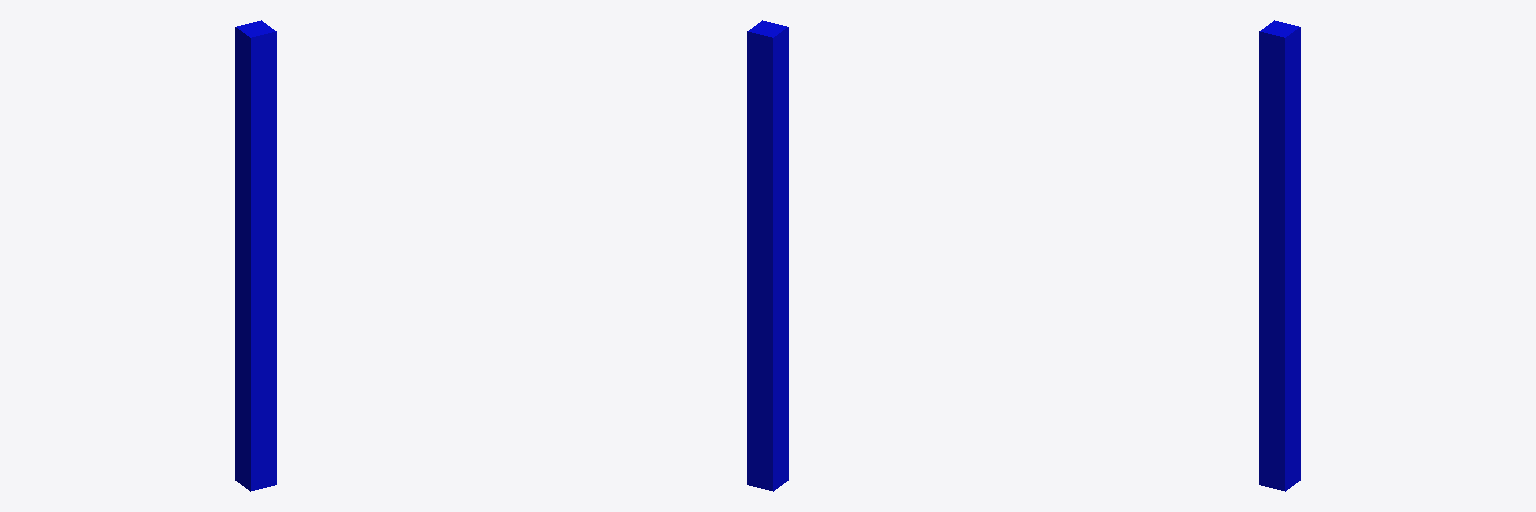
robot.urdf — petri:
<?xml version="1.0" ?>
<robot name="petri">
  <link name="petri">
    <contact>
      <friction_anchor/>
      <!--<stiffness value="30000.0"/>
      <damping value="1000.0"/> 
      <inertia_scaling value="3.0"/>-->
      <lateral_friction value="1.0"/>
      <spinning_friction value="1.0"/> <!-- 0.0001 -->
      <rolling_friction value="1.3"/> <!-- 0.0001 -->
      <contact_cfm value="0.0"/>
      <contact_erp value="1.0"/>
    </contact>
    <inertial>
      <origin rpy="0 0 0" xyz="0.03 0.03 0.5"/>
      <mass value="10"/>
      <inertia ixx="0.5" ixy="0" ixz="0" iyy="0.5" iyz="0" izz="0.5"/>
    </inertial>
    <visual>
      <!-- <origin rpy="0 0 0" xyz="0 0 0"/> -->
      <origin rpy="0.0 0.0 0." xyz="0.03 0.03 0.5"/>
      <geometry>
        <!--<mesh filename="package://meshes/petri.stl"/>-->
        <box size="0.06 0.06 1"/> <!-- 0.06 0.06 0.02 -->
      </geometry>
      <material name="blockmat">
        <color rgba="0.04 0.07 0.91 1"/>
      </material>
    </visual>
    <collision name="petri_collision">
      <!-- <origin rpy="0 0 0" xyz="0 0 0."/> -->
      <origin rpy="0.0 0.0 0." xyz="0.03 0.03 0.5"/>
      <geometry>
        <!-- <mesh filename="package://meshes/petri.stl"/> -->
        <box size="0.06 0.06 1"/>
      </geometry>
    </collision>
  </link>
</robot>

--- Facts derived from the render (not from the file) ---
Views: 3 orthographic renders of the robot side by side, from view 1: azimuth 30°, elevation 25°; view 2: azimuth 150°, elevation 25°; view 3: azimuth 330°, elevation 25°.
Model petri with 1 links and 0 joints (none), rooted at petri, posed every joint at zero.
Visible links, largest first — view 1: petri; view 2: petri; view 3: petri.
Link boxes in pixels (bbox=[...]): petri: bbox=[235, 20, 276, 491]; petri: bbox=[747, 20, 788, 491]; petri: bbox=[1259, 20, 1300, 491].
Bounding box of the posed robot: 0.06 × 0.06 × 1 m (x, y, z).
Geometry: primitives only (box / cylinder / sphere), no mesh files.